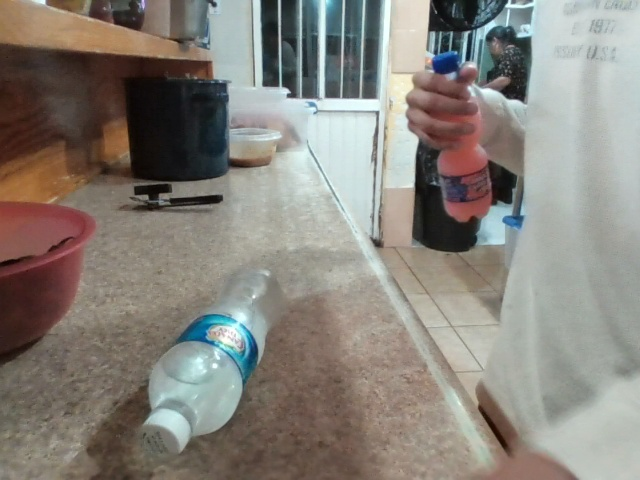botella: (109, 251, 331, 457), (405, 35, 528, 225)
